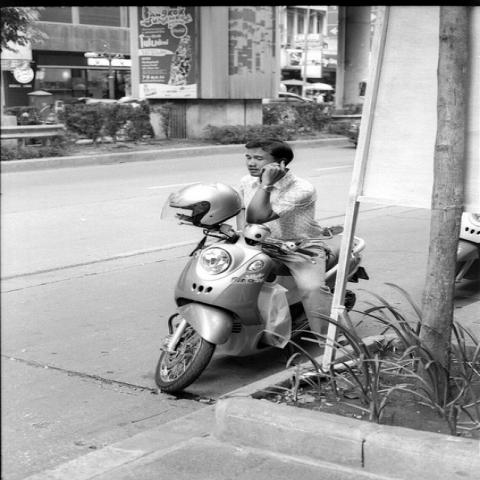motorcycle: (155, 215, 370, 382), (452, 210, 480, 284)
